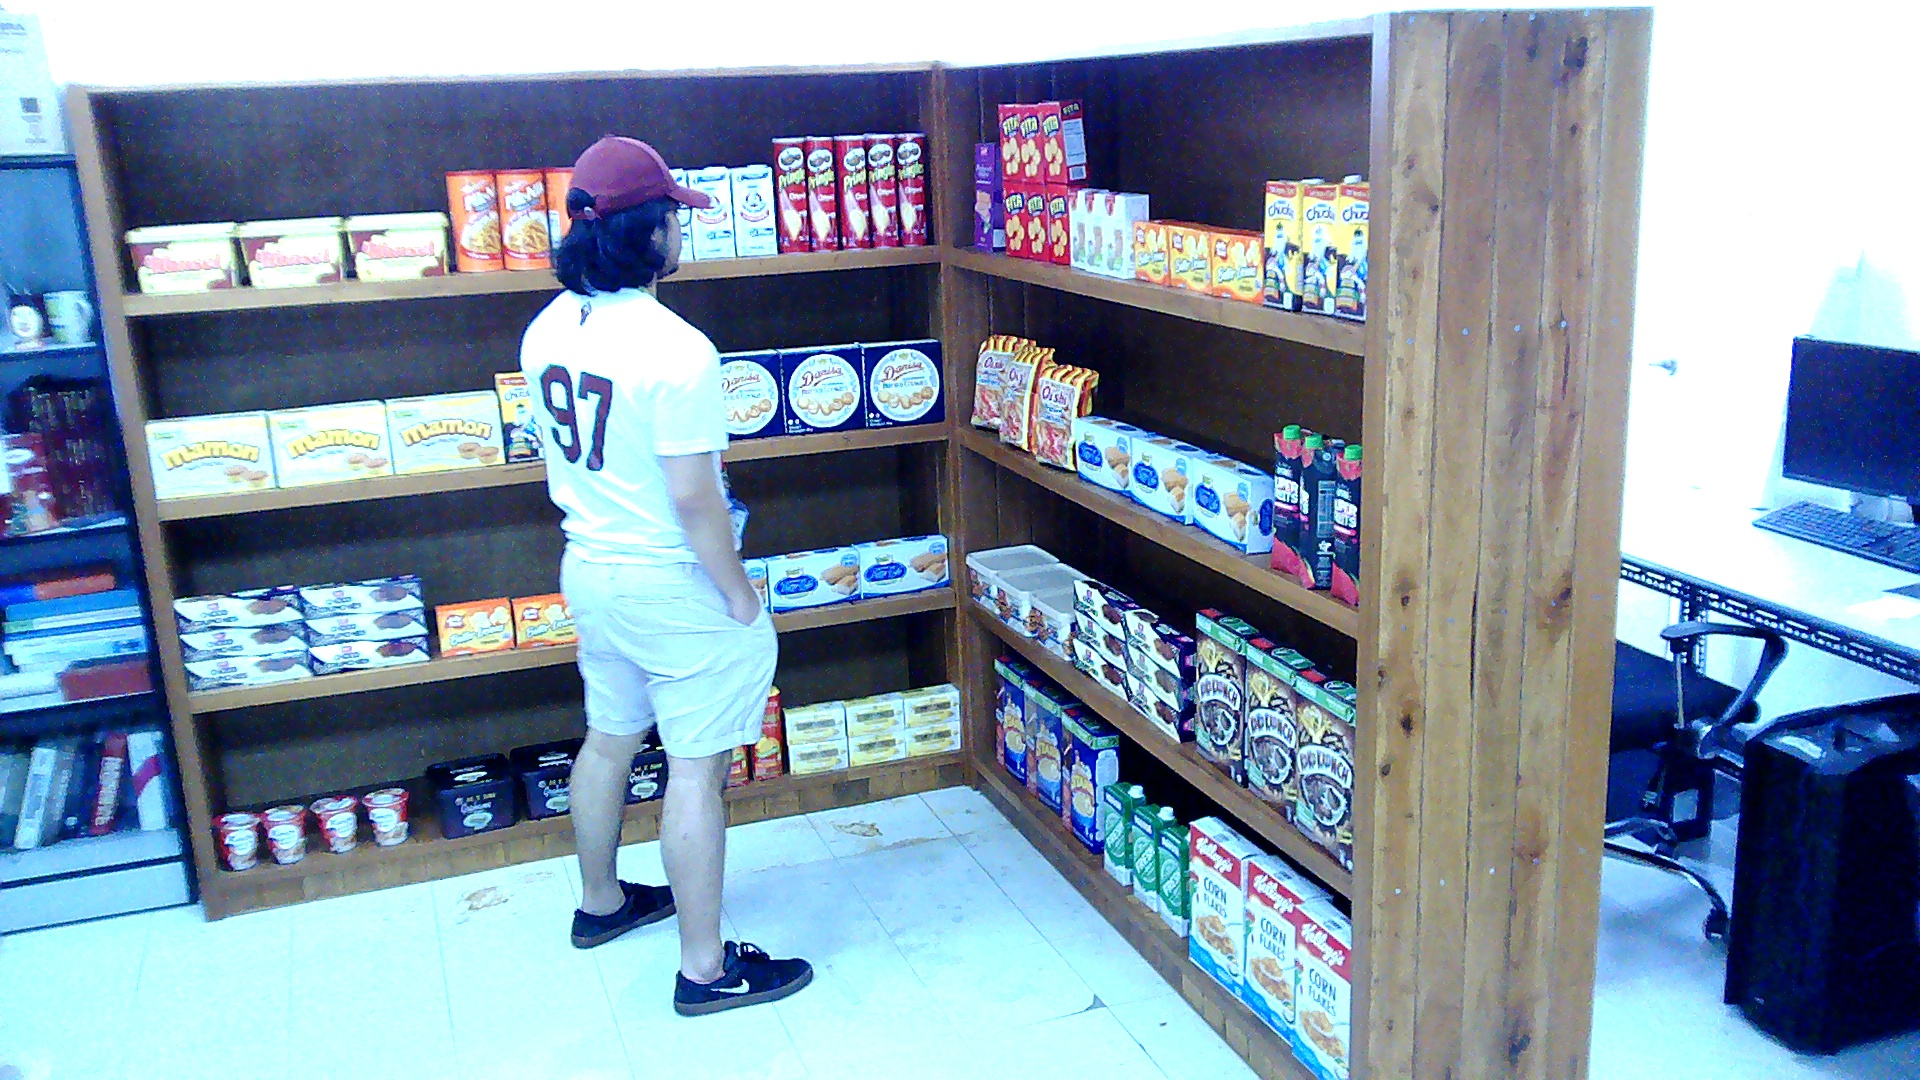Bear brand: (686, 167, 731, 259), (732, 166, 777, 254)
Buttercake: (1193, 452, 1268, 551), (1131, 432, 1209, 524), (762, 544, 858, 612), (1074, 414, 1146, 497), (854, 533, 947, 596)
Butterlicious: (434, 596, 515, 655), (1211, 227, 1262, 303), (1167, 220, 1221, 292), (510, 592, 576, 648), (1134, 220, 1179, 285)
Camomille: (839, 692, 902, 735), (897, 683, 957, 726), (783, 699, 843, 742), (788, 738, 845, 774), (906, 720, 960, 756), (849, 729, 903, 765)
Choco Crunchies: (174, 585, 303, 630), (183, 647, 309, 690), (176, 619, 305, 659), (299, 573, 422, 616), (1124, 607, 1193, 677), (309, 635, 429, 675), (1128, 673, 1194, 743), (1128, 643, 1194, 711), (1074, 575, 1140, 636), (306, 610, 426, 644), (1071, 634, 1125, 699), (1073, 609, 1124, 668)
Chocolate Chips: (992, 560, 1085, 634), (966, 542, 1059, 614), (1028, 585, 1073, 659)
Chuckie: (1331, 180, 1370, 320), (1263, 180, 1302, 308), (495, 371, 543, 461), (1302, 185, 1335, 315)
Danisa: (774, 342, 864, 434), (861, 338, 945, 428), (716, 347, 785, 439)
Fita: (1037, 99, 1088, 182), (1017, 104, 1044, 180), (1044, 182, 1068, 263), (1023, 182, 1047, 261), (1002, 180, 1023, 256), (998, 104, 1019, 180)
Fresh Milk: (1130, 803, 1175, 911), (1104, 780, 1146, 883), (1158, 823, 1188, 936)
Grahams: (423, 751, 513, 837), (509, 735, 584, 818), (624, 724, 672, 803)
Hansel: (122, 223, 239, 293), (236, 216, 341, 286), (345, 209, 447, 279)
Head: (549, 126, 720, 299)
Honey Stars: (1062, 707, 1119, 855), (1022, 675, 1079, 817), (992, 653, 1037, 783)
Kellogg Corn Flakes: (1241, 855, 1328, 1044), (1188, 817, 1266, 999), (1292, 898, 1349, 1078)
Kimchi Noodles: (309, 794, 357, 853), (360, 787, 408, 846), (258, 803, 303, 864), (210, 812, 258, 868)
Koko Krunch: (1245, 634, 1317, 823), (1194, 603, 1263, 787), (1296, 665, 1356, 870)
Locally Mango: (750, 684, 780, 778)
Mamon: (144, 409, 276, 497), (264, 398, 393, 486), (384, 389, 504, 472)
Oishi Prawn: (1032, 351, 1098, 470), (969, 333, 1035, 427), (999, 344, 1053, 454)
Pik-nik: (494, 166, 551, 269), (444, 168, 501, 269), (543, 167, 570, 243)
Pringles: (771, 135, 810, 252), (834, 134, 870, 247), (804, 135, 837, 252), (894, 132, 927, 245), (867, 132, 897, 245)
Super Fruits: (1298, 434, 1343, 587), (1272, 423, 1314, 576), (1332, 443, 1362, 605)
Wafer: (975, 142, 1002, 252)
iHop: (1101, 189, 1149, 279), (1082, 191, 1103, 272), (1067, 188, 1082, 267)
